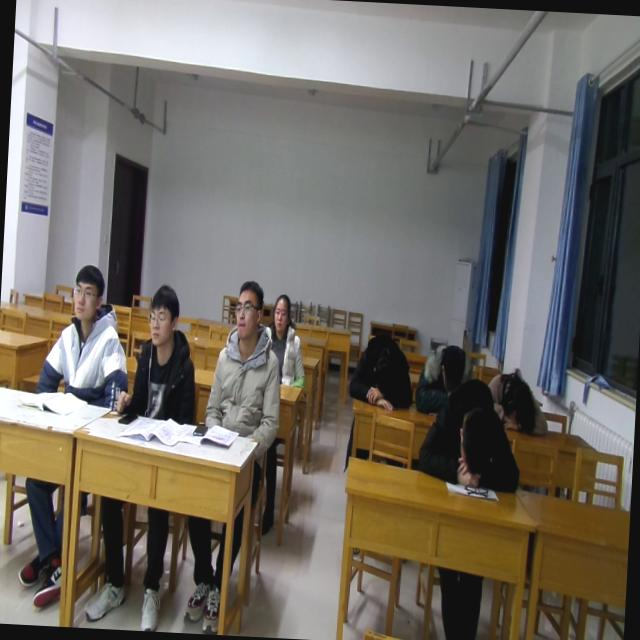bow: (414, 372, 526, 497), (346, 326, 420, 414), (413, 335, 478, 418), (486, 366, 552, 442)
lookup: (144, 277, 183, 353), (69, 262, 110, 327), (231, 274, 267, 344), (270, 289, 294, 338)
sit: (31, 260, 135, 410), (202, 279, 287, 440), (116, 280, 202, 421), (263, 294, 310, 392)
